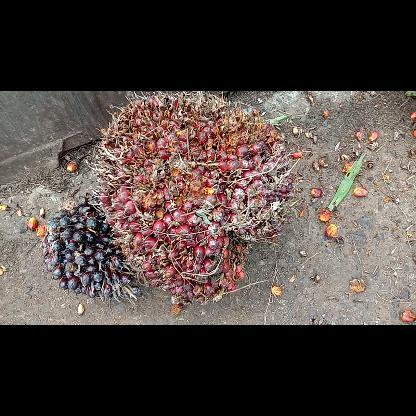TBS abnormal: (39, 194, 143, 302)
TBS masak: (92, 92, 294, 307)
